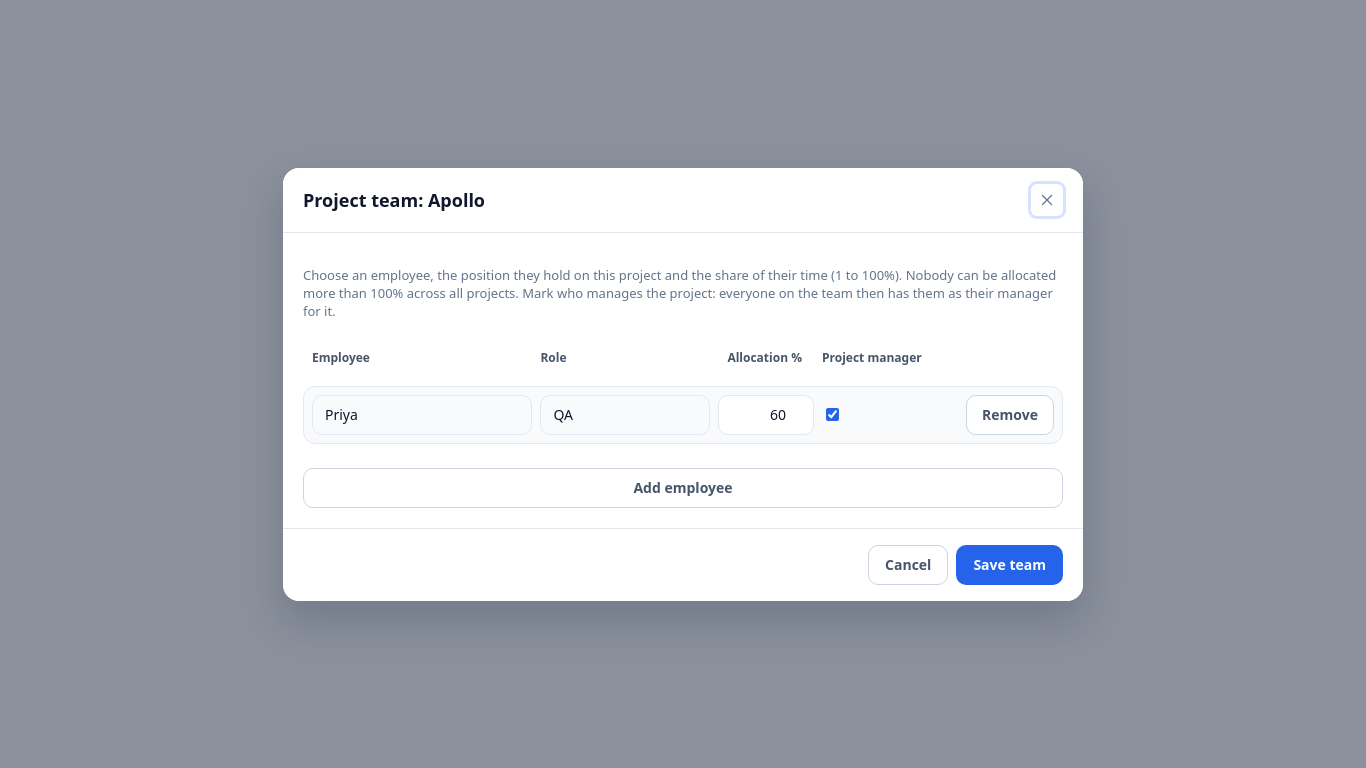
Test: ProjectTeamDialogComponent › shows the server message and saves nothing when someone would pass 100 percent
This screenshot has width=1366, height=768.
Click the button "Save team".
click(1010, 564)  # box [956,544,1063,584]
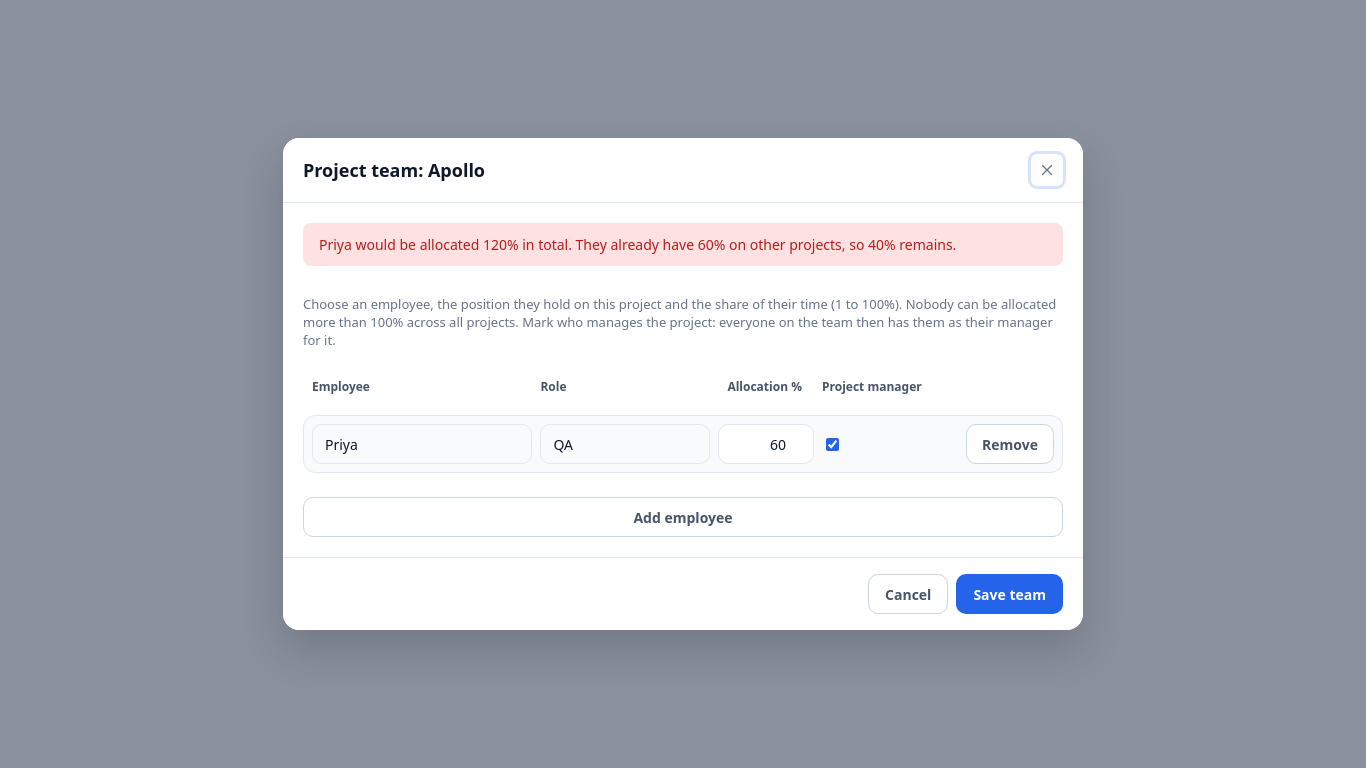
Expected: the message shows "Priya would be allocated 120% in total", [319,235,956,254]
